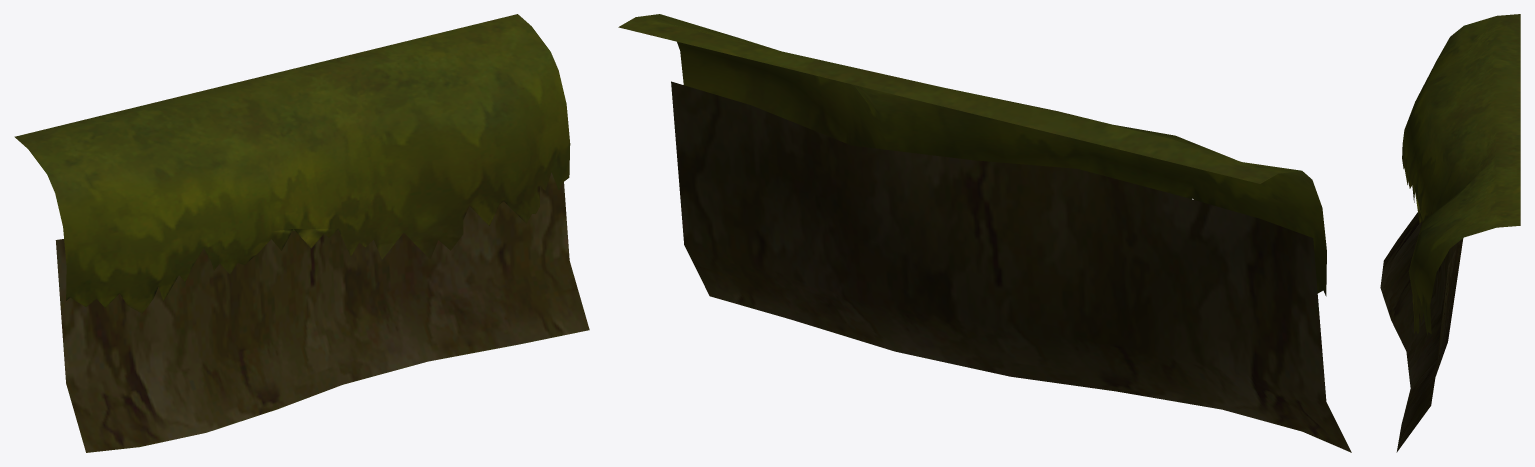
File: lumina_trim_base4_p1_02.FBX
The picture shows the model from 3 angles, left to right: view 1: azimuth 30°, elevation 25°; view 2: azimuth 150°, elevation 25°; view 3: azimuth 270°, elevation 25°; orthographic projection. The views are drawn at different scales.
Parts seen in each view (by area): view 1: lumina_trim_base4_p1_02; view 2: lumina_trim_base4_p1_02; view 3: lumina_trim_base4_p1_02.
Boxes of the visible parts, x1,y1,x2,y2 form: lumina_trim_base4_p1_02: [14, 14, 589, 452]; lumina_trim_base4_p1_02: [618, 14, 1351, 452]; lumina_trim_base4_p1_02: [1380, 14, 1520, 452].
Bounding box in the file's own units: 4 × 2.03 × 1.12.
